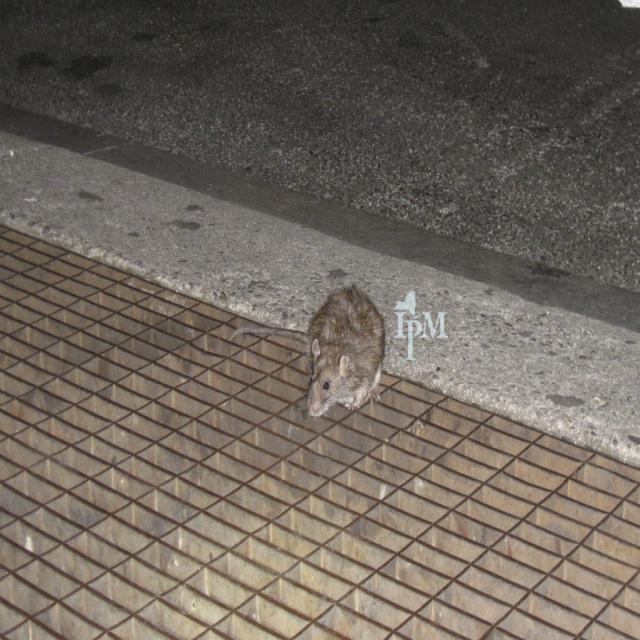rat: (275, 296, 396, 424)
